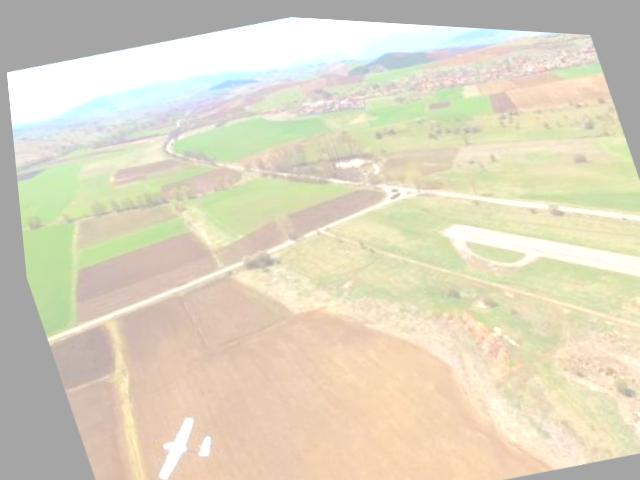uav: (122, 396, 222, 480)
